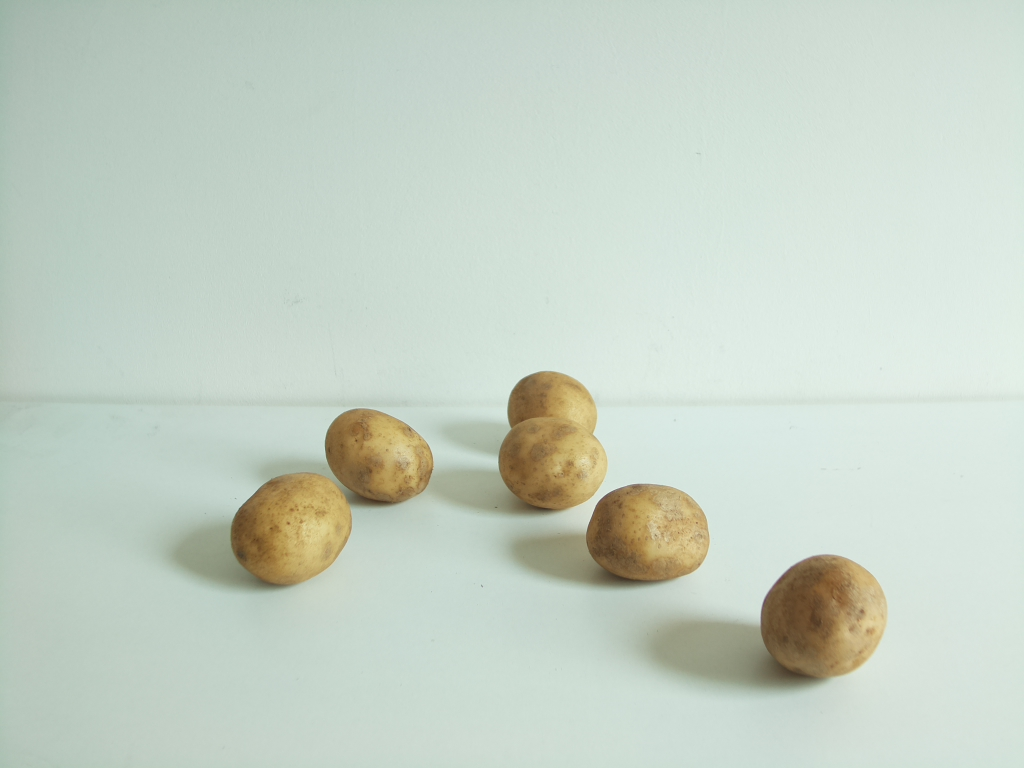potatoes: (759, 547, 882, 684), (231, 470, 354, 584), (501, 370, 601, 508), (591, 480, 708, 587), (331, 403, 431, 508)
